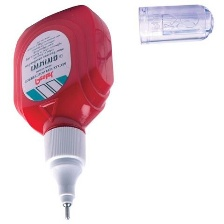correction_fluid: (9, 2, 115, 220)
